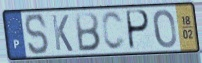B: (74, 11, 102, 53)
C: (100, 10, 127, 52)
K: (50, 13, 75, 53)
O: (152, 8, 178, 50)
P: (126, 9, 151, 52)
S: (24, 12, 51, 56)
